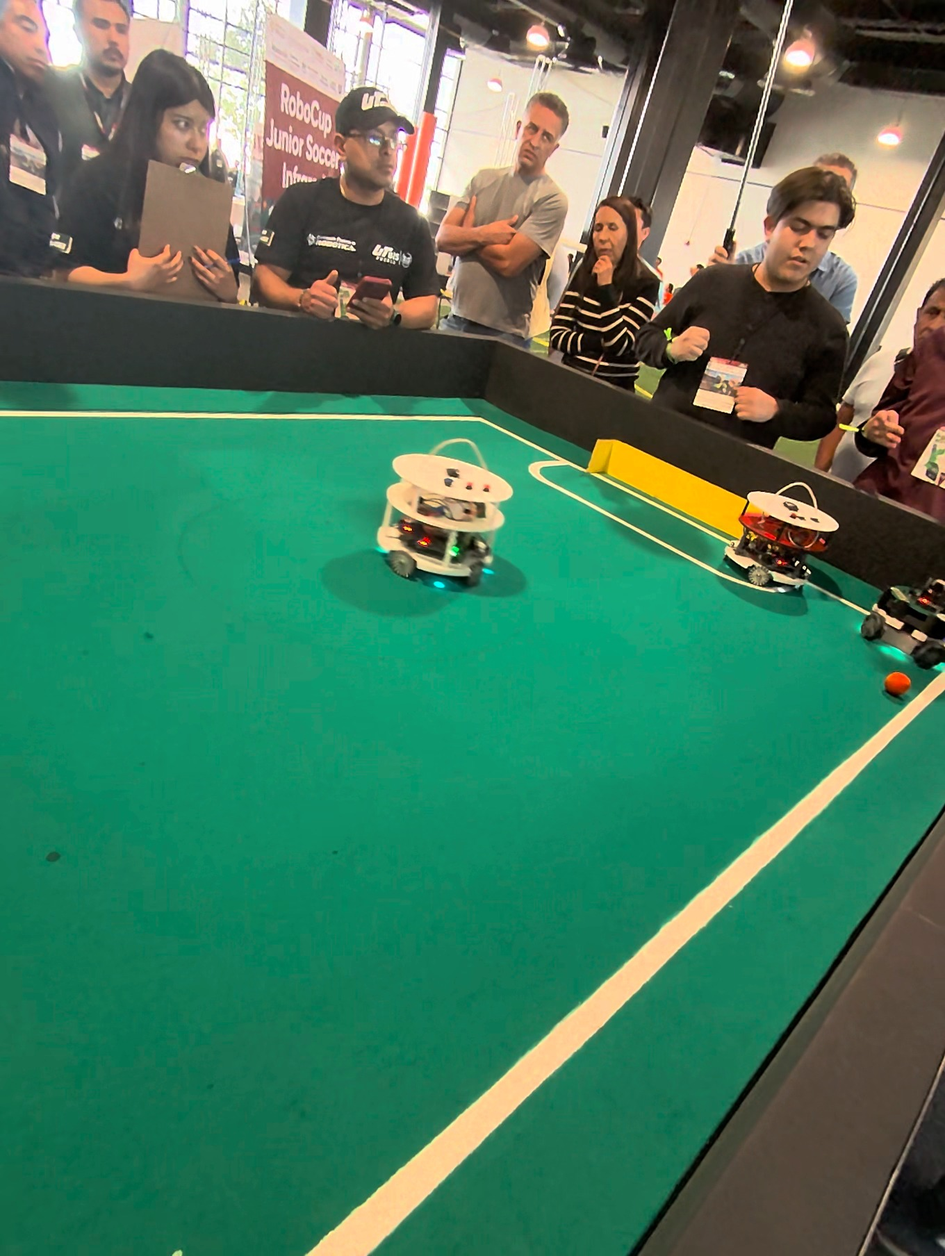Robot: (369, 429, 528, 597), (726, 482, 821, 604), (859, 566, 945, 670)
pelota: (884, 669, 914, 698)
